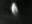person: (11, 4, 19, 17)
